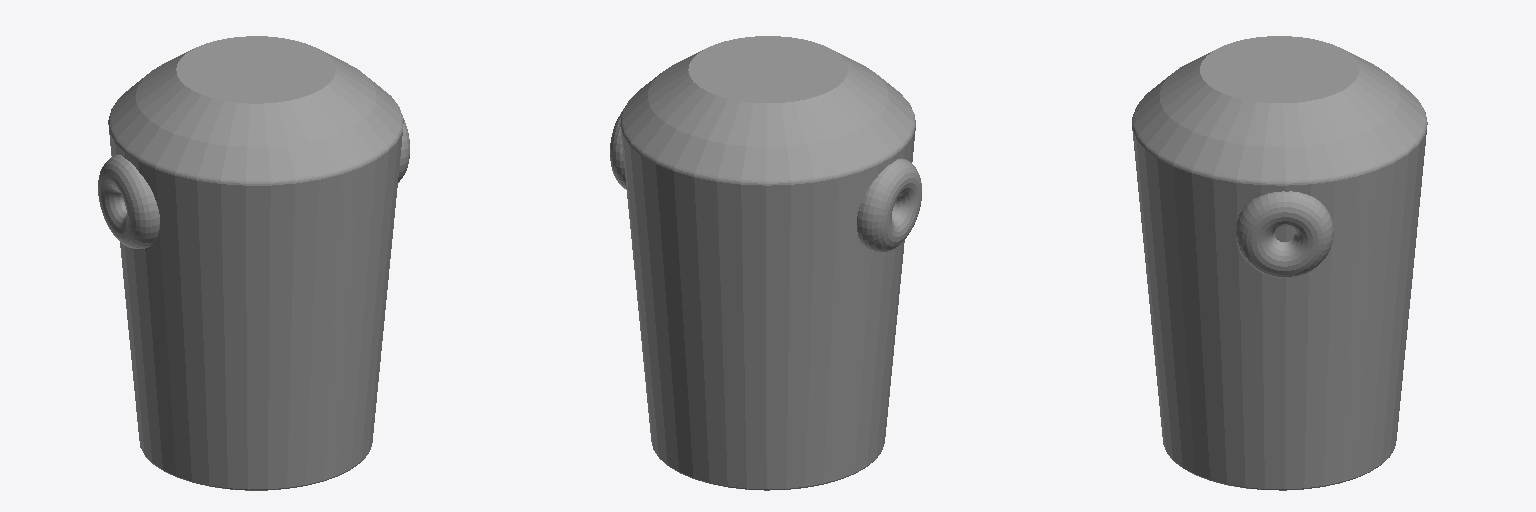
File: bender_torso.obj
3 renders of one model, left to right at view 1: azimuth 30°, elevation 25°; view 2: azimuth 150°, elevation 25°; view 3: azimuth 270°, elevation 25°, orthographic.
Parts seen in each view (by area): view 1: Cylinder02.006, Torus03.006; view 2: Cylinder02.006, Torus03.006, Torus02.006; view 3: Cylinder02.006, Torus02.006.
Part boxes in pixels (left/top/right/bottom): Cylinder02.006: left=108, top=36, right=403, bottom=490; Torus03.006: left=98, top=154, right=159, bottom=248; Cylinder02.006: left=620, top=36, right=915, bottom=490; Torus03.006: left=857, top=158, right=921, bottom=252; Torus02.006: left=610, top=109, right=626, bottom=189; Cylinder02.006: left=1132, top=36, right=1427, bottom=490; Torus02.006: left=1235, top=191, right=1333, bottom=277.
Bounding box in the file's own units: 4.95 × 6.28 × 4.51.